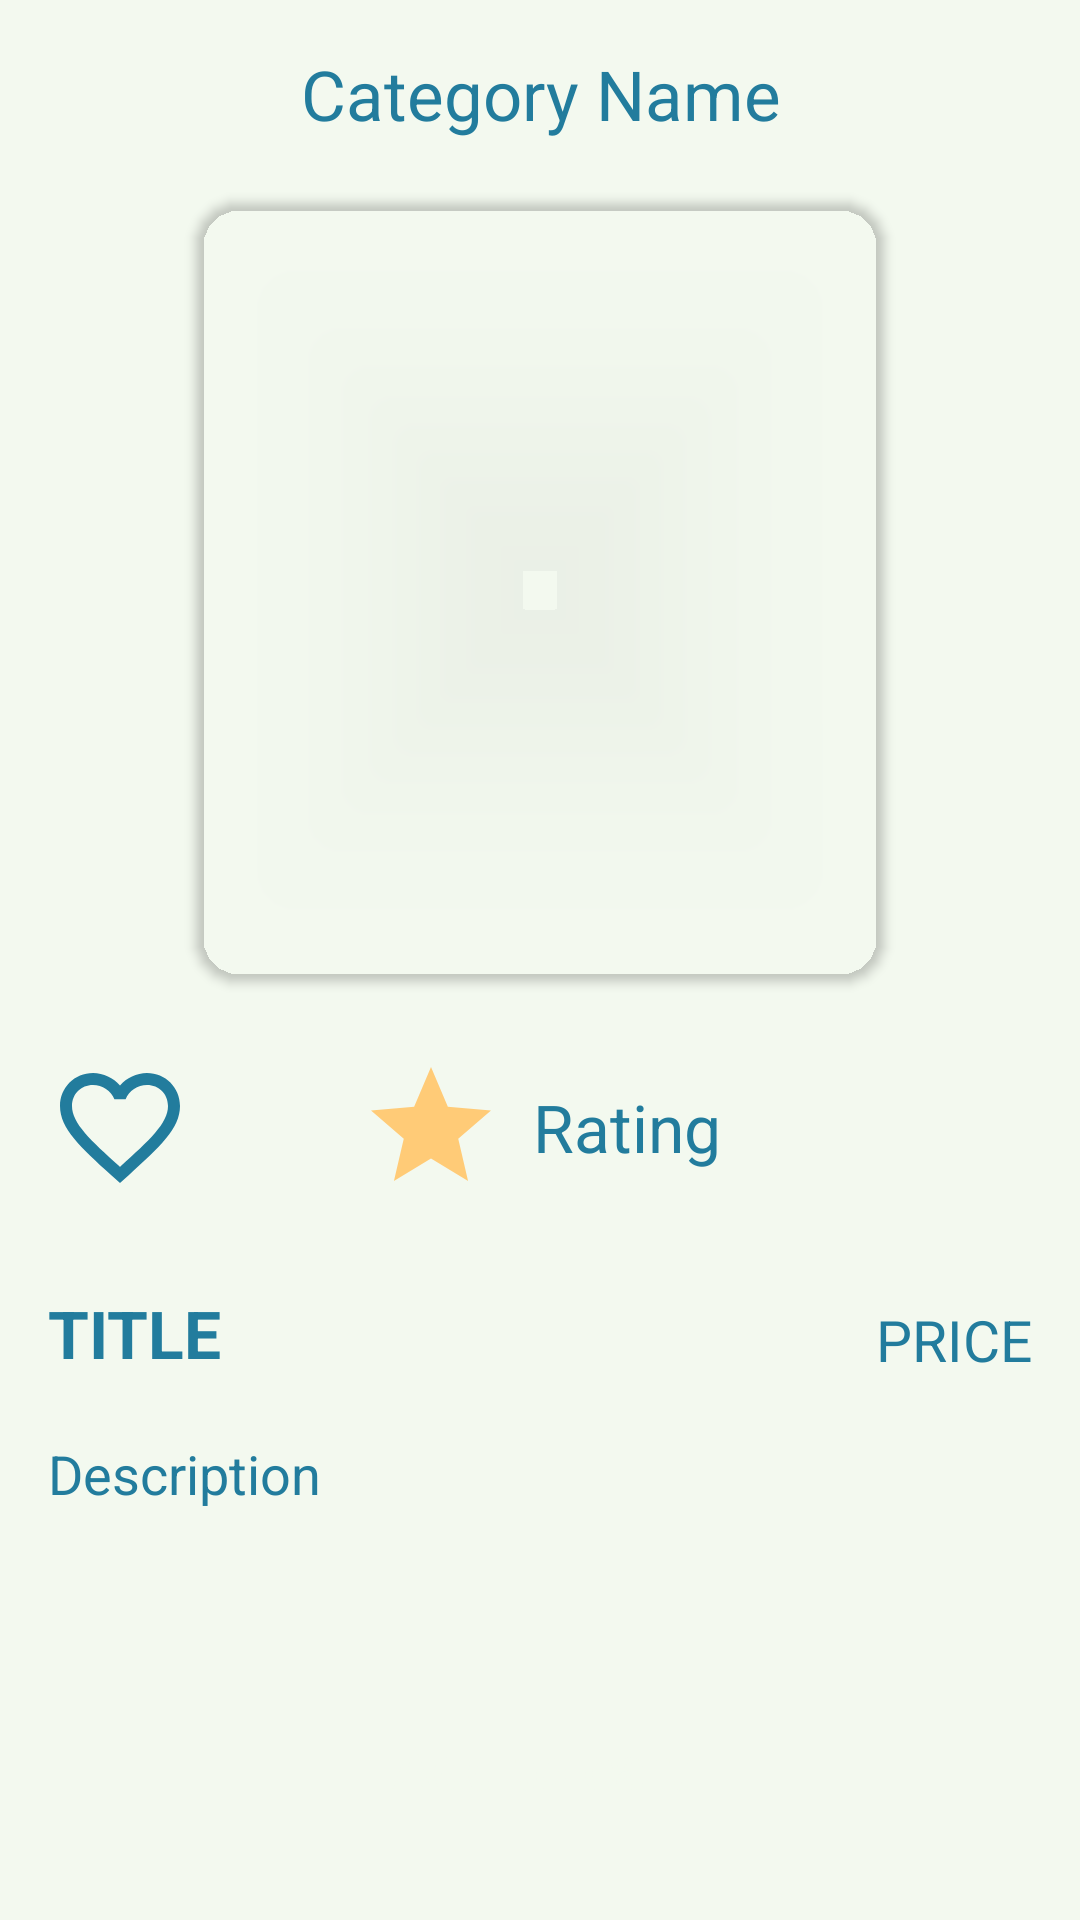

Screen size 1080x1920. Icon name, then its box in pixels as (left=x1, top=y1, right=x2, bottom=y2):
favorite border: (left=60, top=1073, right=180, bottom=1183)
star: (left=371, top=1067, right=491, bottom=1181)
